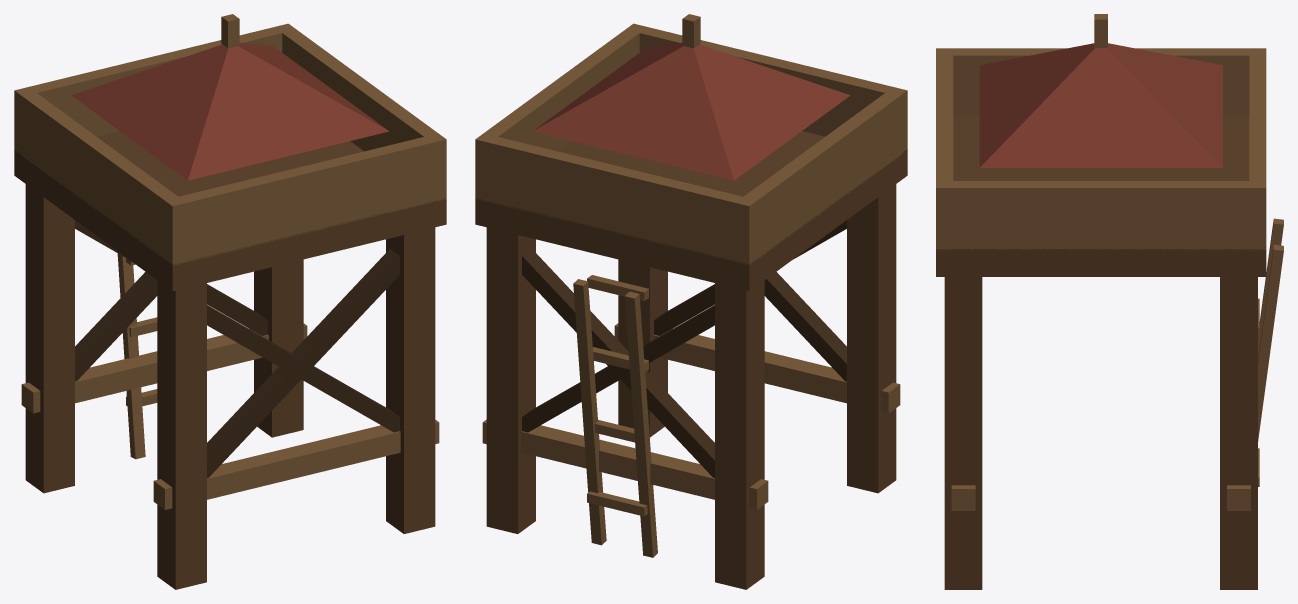
The model's file is tower_l1_lowpoly.glb.
3 views of the same model, side by side, from view 1: azimuth 30°, elevation 25°; view 2: azimuth 150°, elevation 25°; view 3: azimuth 270°, elevation 25° (orthographic). The views are drawn at different scales.
Parts seen in each view (by area): view 1: lp_tower; view 2: lp_tower; view 3: lp_tower.
Part boxes in pixels (bbox=[...]): lp_tower: bbox=[14, 14, 446, 589]; lp_tower: bbox=[475, 14, 907, 589]; lp_tower: bbox=[936, 14, 1283, 589].
Bounding box in the file's own units: 0.96 × 1.62 × 1.01.
